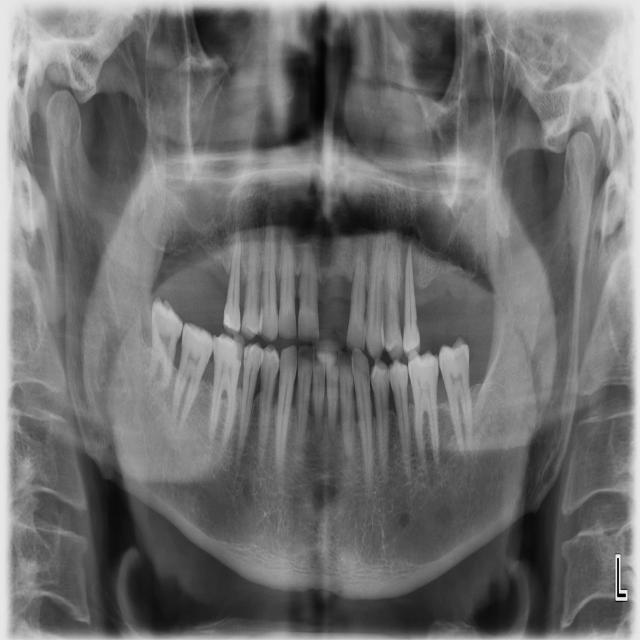mandibula: (45, 87, 594, 599)
